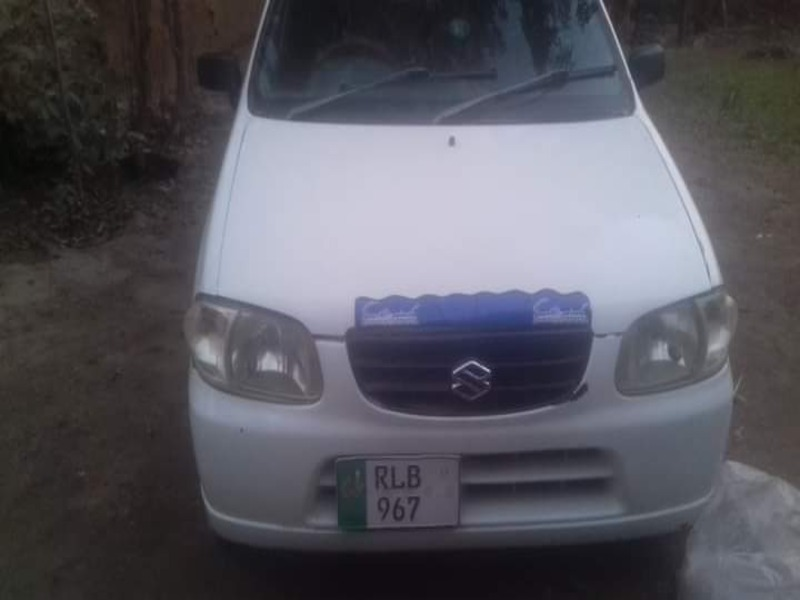License Plate: (332, 454, 465, 534)
